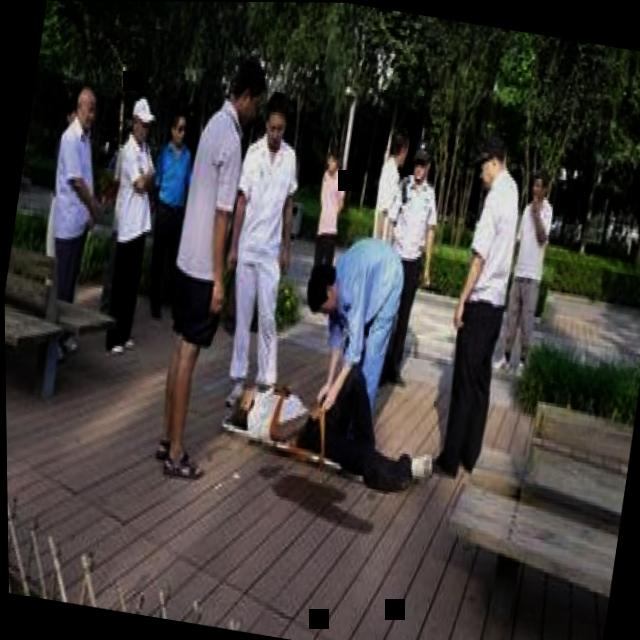Fall-Detected: (217, 339, 453, 501)
